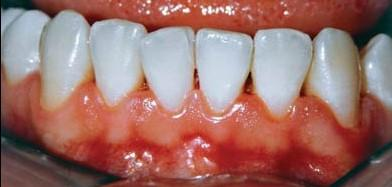Gingivitis: (68, 122, 343, 180)
